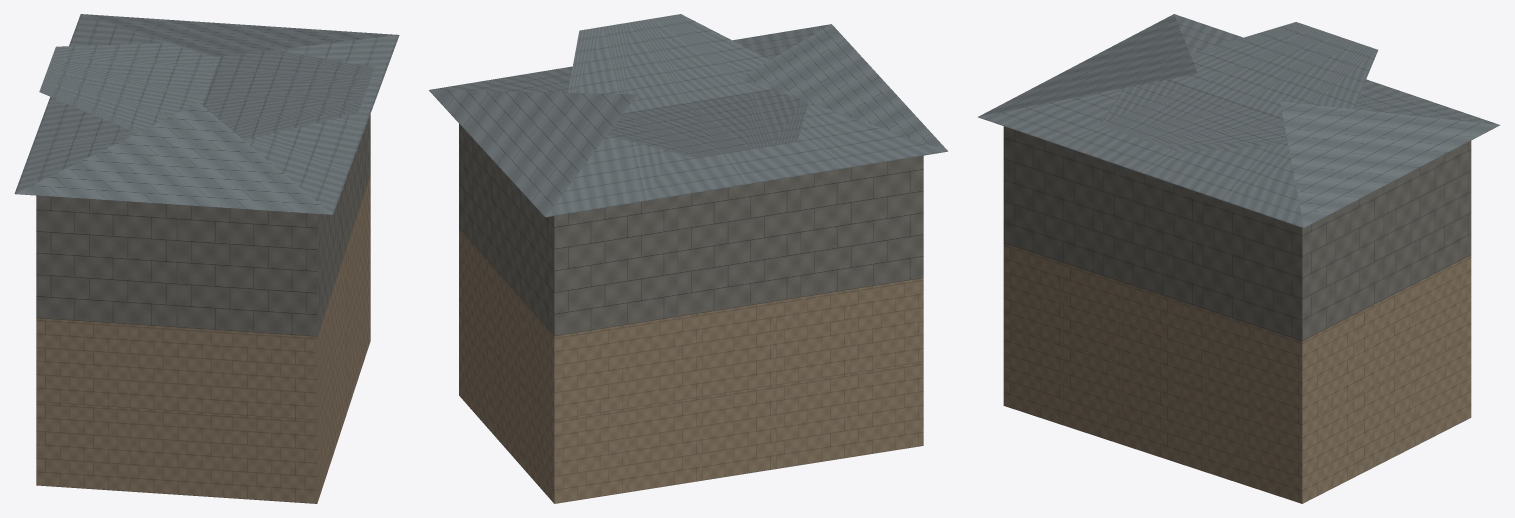
The model's file is bld_c34_-28_453.gltf.
3 renders of one model, left to right at view 1: azimuth 30°, elevation 25°; view 2: azimuth 150°, elevation 25°; view 3: azimuth 270°, elevation 25°, orthographic. The views are drawn at different scales.
Visible parts, largest first — view 1: bld_c34_-28_453; view 2: bld_c34_-28_453; view 3: bld_c34_-28_453.
Part boxes in pixels (bbox=[...]): bld_c34_-28_453: bbox=[14, 14, 399, 503]; bld_c34_-28_453: bbox=[429, 14, 947, 503]; bld_c34_-28_453: bbox=[978, 14, 1500, 503].
Bounding box in the file's own units: 13.64 × 9.6 × 14.08.
Materials: 3 (3 with a texture image).
